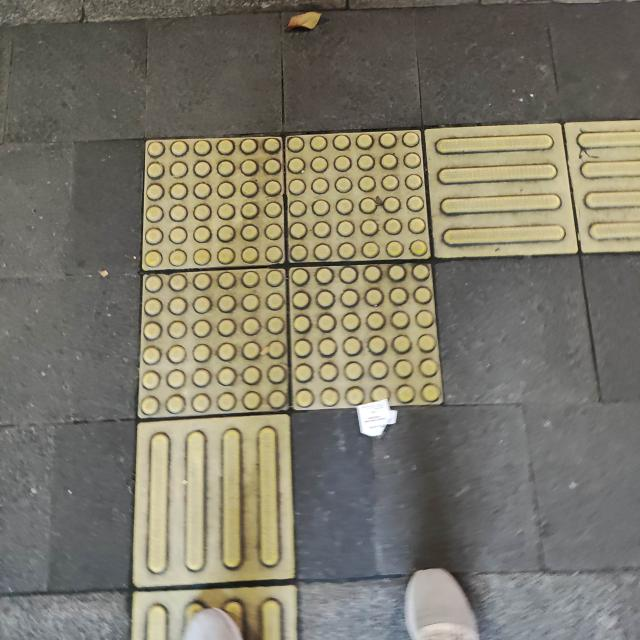kanan: (79, 102, 640, 482)
